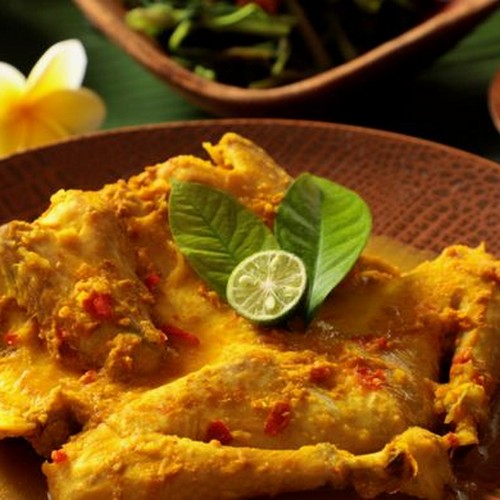ayam betutu: (4, 321, 495, 498)
